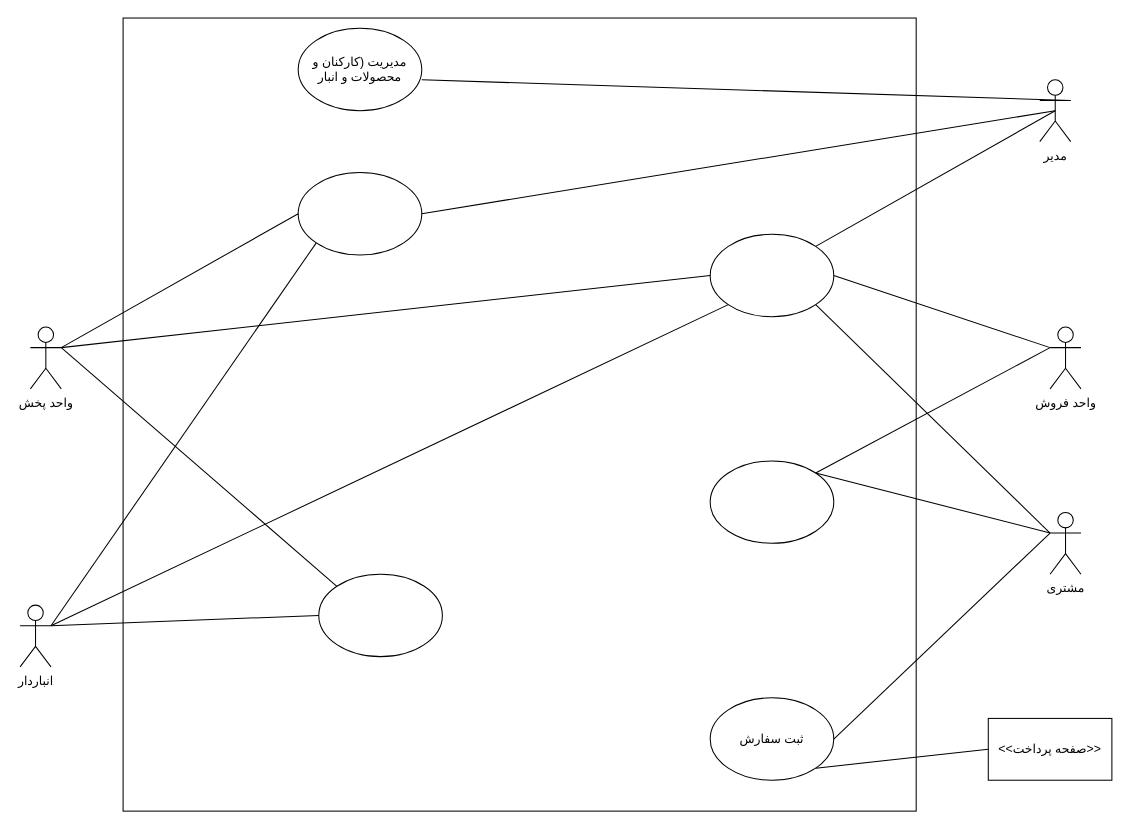
Image size: 1130x829. Some labels were removed from this diagram. Each missing label, with the box of its shape:
تحویل کالا به مشتری: (318, 573, 442, 657)
مدیریت قرارداد ها: (709, 460, 834, 543)
ورود و خروج سیستم: (709, 233, 834, 317)
گزارش گیری: (297, 171, 422, 255)
